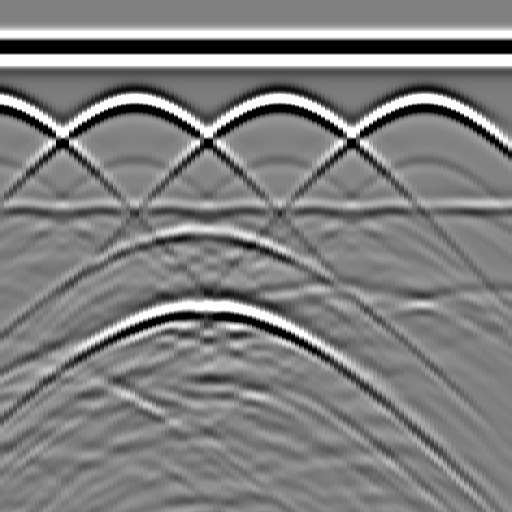grout_surface: (1, 194, 512, 224)
rebar: (113, 82, 153, 122), (257, 82, 297, 122), (401, 82, 441, 122)
rock_surface: (1, 286, 511, 387)
water_void: (169, 209, 229, 249)
